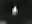person: (12, 6, 20, 18)
